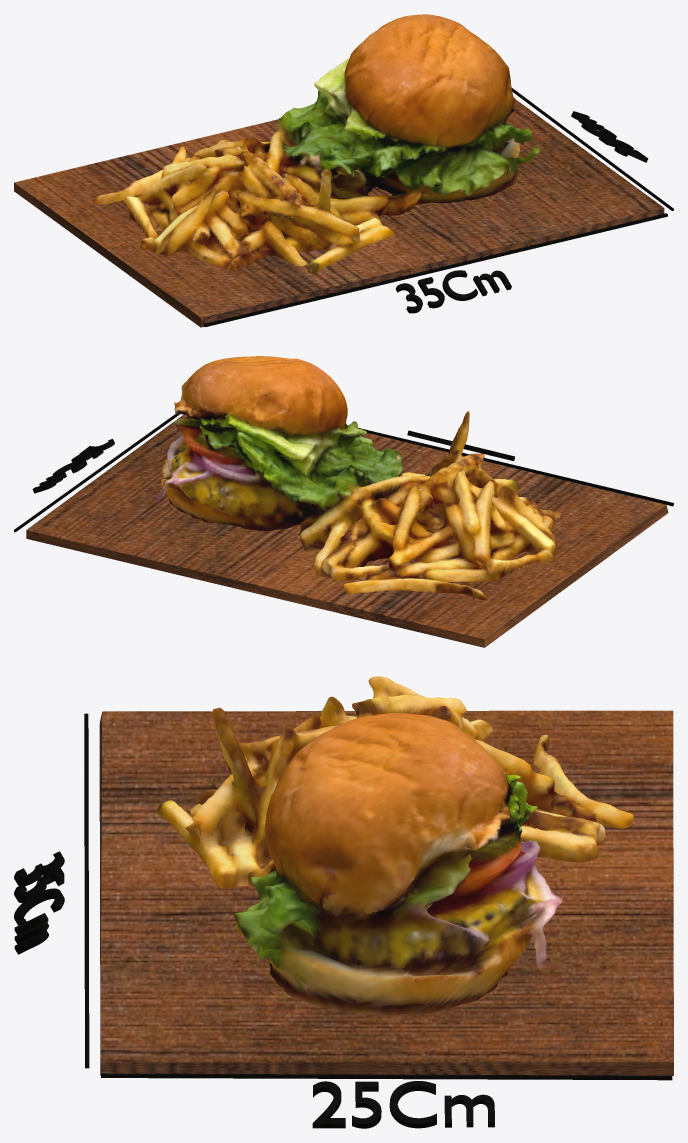
The model's file is burger.glb.
3 renders of one model, top to bottom at view 1: azimuth 30°, elevation 25°; view 2: azimuth 150°, elevation 25°; view 3: azimuth 270°, elevation 25°, orthographic. The views are drawn at different scales.
Parts seen in each view (by area): view 1: Object_2, Cube, Object_3, Cube.001, Text.002, Text.003, Cube.002; view 2: Cube, Object_2, Object_3, Cube.001, Text.003, Cube.002, Text.002; view 3: Cube, Object_2, Object_3, Text.003, Text.002, Cube.002, Cube.001.
Part boxes in pixels (bbox=[...]): Object_2: bbox=[93, 16, 539, 273]; Cube: bbox=[14, 100, 664, 327]; Object_3: bbox=[95, 14, 520, 252]; Cube.001: bbox=[204, 213, 667, 327]; Text.002: bbox=[395, 270, 511, 313]; Text.003: bbox=[571, 111, 648, 162]; Cube.002: bbox=[511, 88, 673, 210]; Cube: bbox=[26, 414, 668, 647]; Object_2: bbox=[156, 356, 561, 600]; Object_3: bbox=[166, 364, 554, 600]; Cube.001: bbox=[358, 428, 673, 506]; Text.003: bbox=[32, 439, 114, 493]; Cube.002: bbox=[14, 413, 179, 532]; Text.002: bbox=[407, 430, 514, 460]; Cube: bbox=[99, 710, 673, 1075]; Object_2: bbox=[157, 677, 633, 1014]; Object_3: bbox=[185, 676, 630, 1015]; Text.003: bbox=[312, 1081, 494, 1128]; Text.002: bbox=[14, 851, 64, 954]; Cube.002: bbox=[101, 1073, 672, 1080]; Cube.001: bbox=[84, 713, 89, 1068].
Bounding box in the file's own units: 0.3646 × 0.109 × 0.2619.
6 materials, 6 textured.
